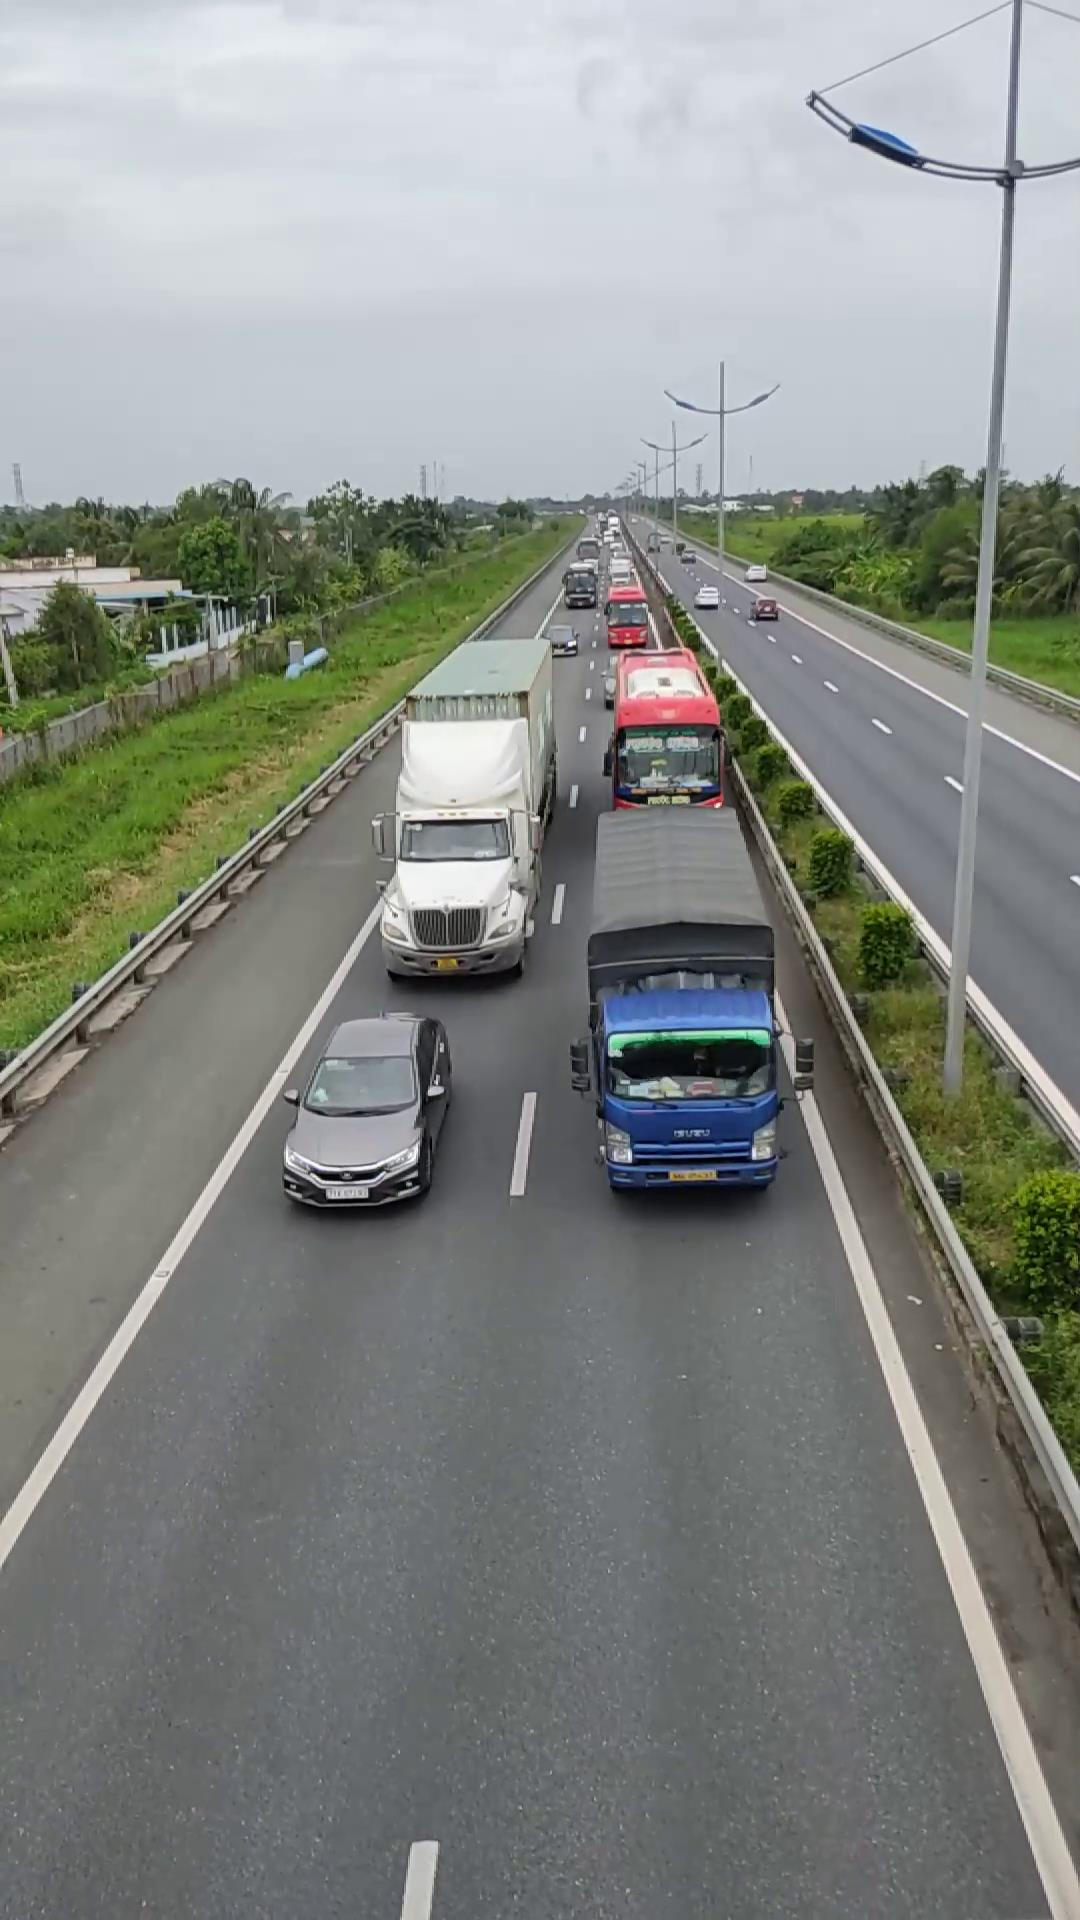car: (278, 1011, 455, 1209)
container: (376, 632, 560, 982)
truck: (571, 800, 790, 1196)
